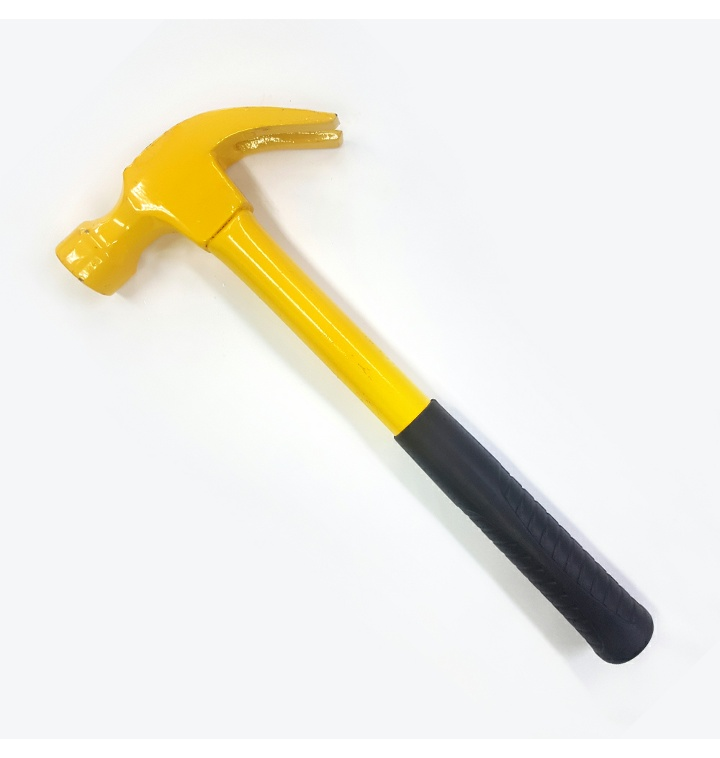hammer: (46, 89, 669, 678)
